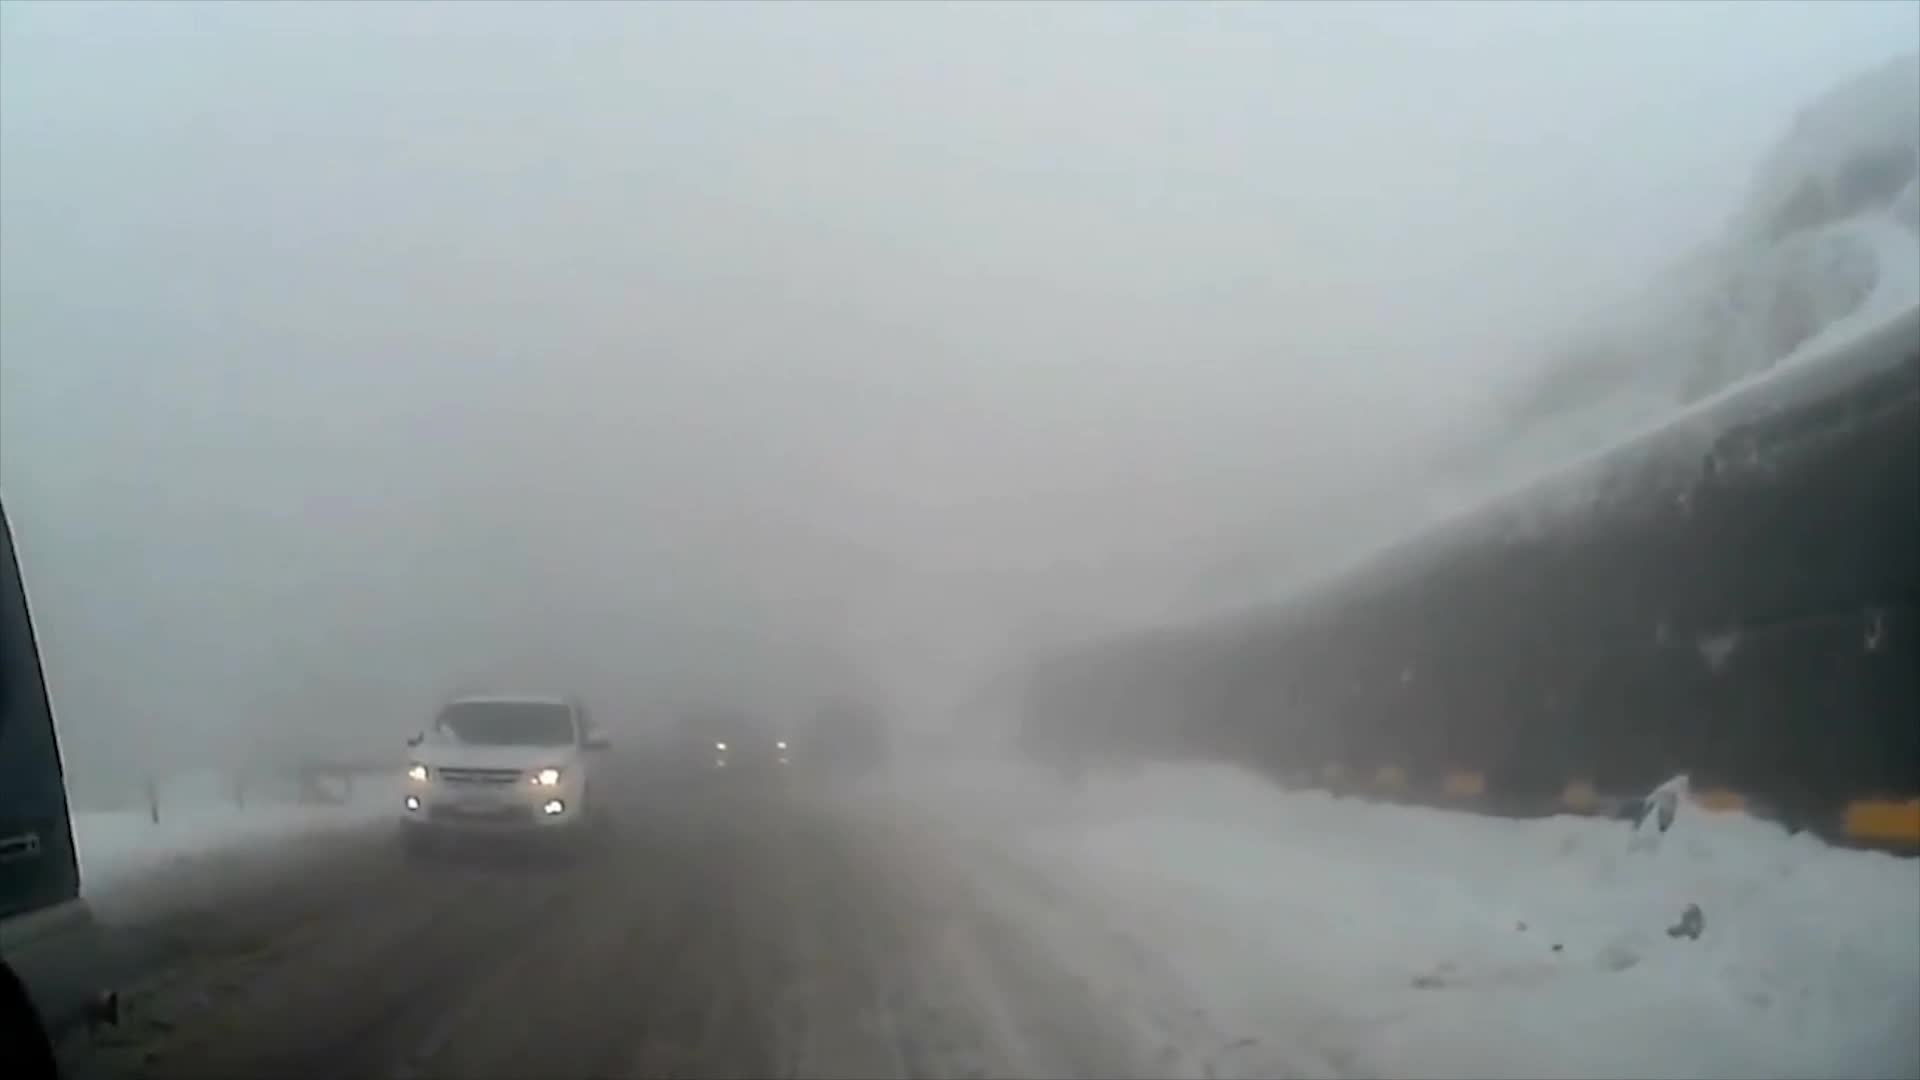vehicle: (0, 498, 129, 1079), (394, 687, 618, 861)
